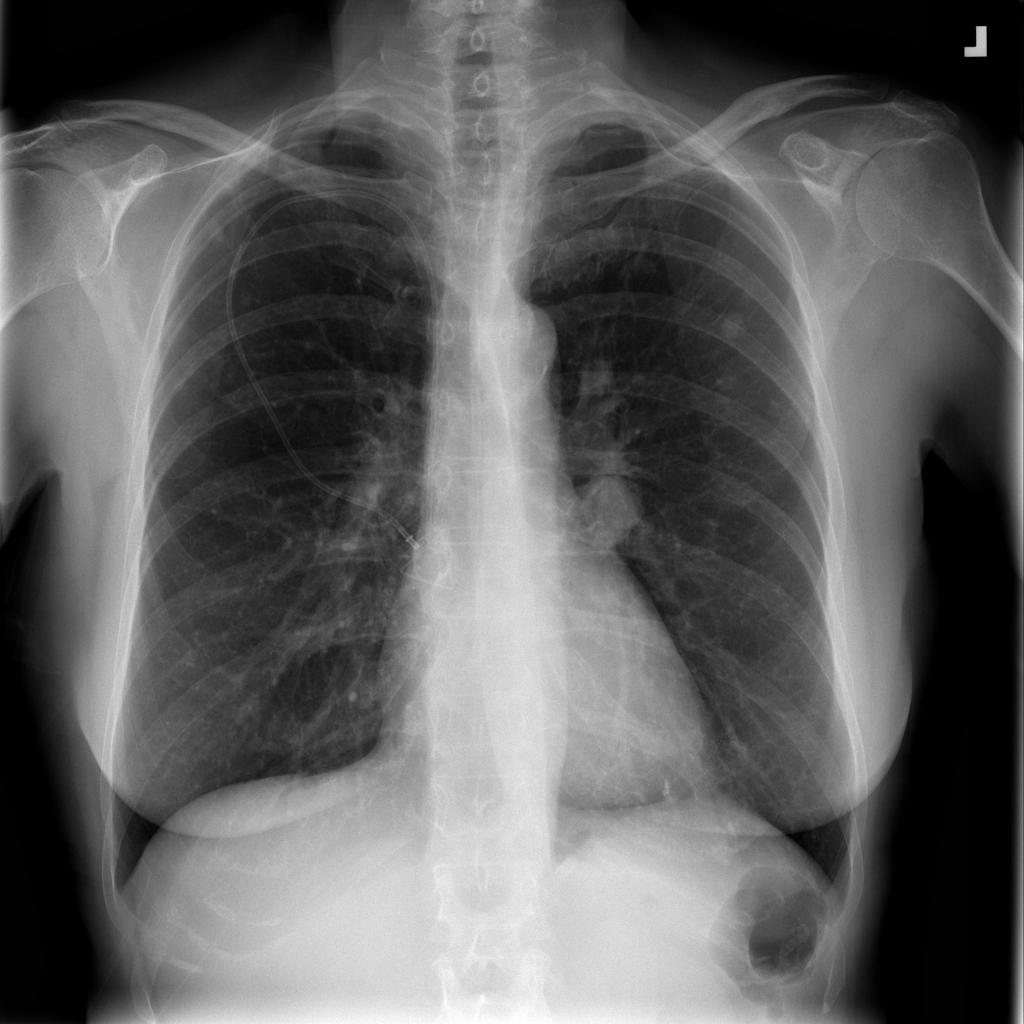nodule: (558, 452, 657, 567), (706, 300, 760, 349)
